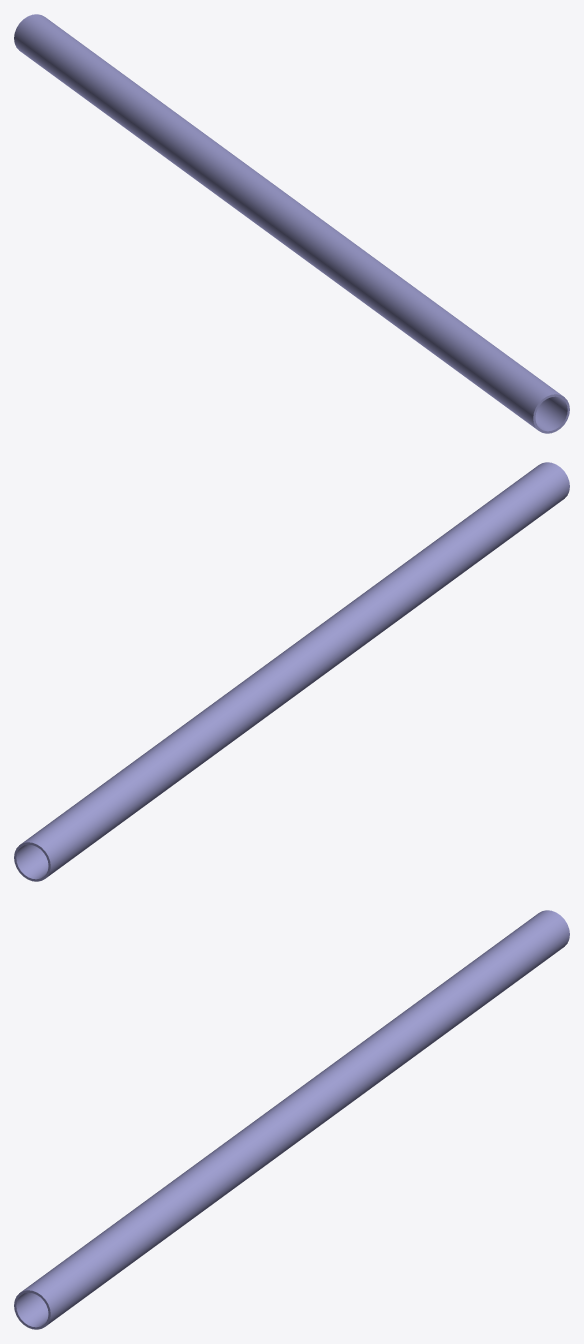
The model's file is QMag12BPipePipe.gltf.
3 renders of one model, top to bottom at view 1: azimuth 30°, elevation 25°; view 2: azimuth 150°, elevation 25°; view 3: azimuth 330°, elevation 25°, orthographic.
Visible parts, largest first — view 1: logicQMag12BPipePipe_pv0x2246d40; view 2: logicQMag12BPipePipe_pv0x2246d40; view 3: logicQMag12BPipePipe_pv0x2246d40.
Part boxes in pixels (left/top/right/bottom): logicQMag12BPipePipe_pv0x2246d40: left=14, top=14, right=569, bottom=433; logicQMag12BPipePipe_pv0x2246d40: left=14, top=462, right=569, bottom=881; logicQMag12BPipePipe_pv0x2246d40: left=14, top=910, right=569, bottom=1329.
Size of the model in its own units: 5.11 by 5.11 by 125.
